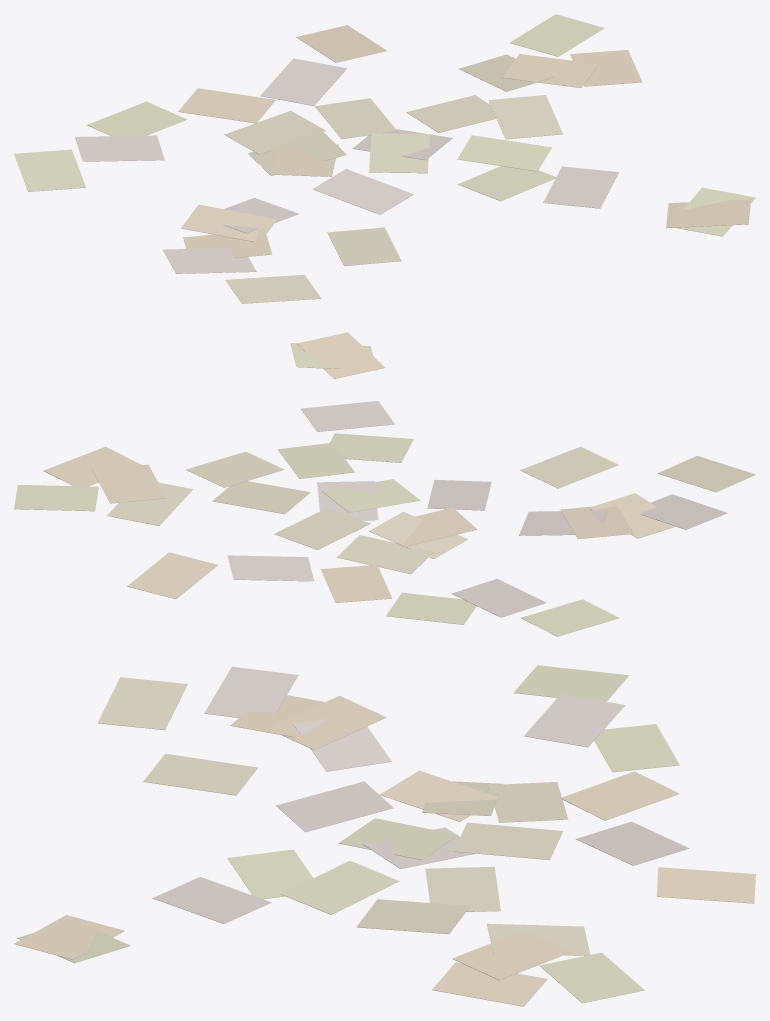
The model's file is prop_scattered_papers.fbx.
3 renders of one model, top to bottom at view 1: azimuth 30°, elevation 25°; view 2: azimuth 150°, elevation 25°; view 3: azimuth 270°, elevation 25°, orthographic. The views are drawn at different scales.
Parts seen in each view (by area): view 1: Pp11, Pp20, Pp2, Pp3, Pp15, Pp26, Pp14, Pp8, Pp13, Pp27, Pp17, Pp22 (+18 smaller); view 2: Pp1, Pp25, Pp4, Pp8, Pp24, Pp22, Pp13, Pp17, Pp11, Pp15, Pp10, Pp16 (+18 smaller); view 3: Pp28, Pp27, Pp14, Pp23, Pp3, Pp4, Pp22, Pp24, Pp1, Pp13, Pp17, Pp10 (+18 smaller).
Boxes of the visible parts, bbox=[...] form: Pp11: bbox=[260, 58, 346, 105]; Pp20: bbox=[488, 95, 562, 139]; Pp2: bbox=[14, 149, 85, 191]; Pp3: bbox=[313, 169, 413, 214]; Pp15: bbox=[543, 166, 618, 208]; Pp26: bbox=[369, 133, 429, 173]; Pp14: bbox=[457, 135, 551, 171]; Pp8: bbox=[224, 111, 325, 154]; Pp13: bbox=[178, 88, 275, 123]; Pp27: bbox=[75, 135, 164, 161]; Pp17: bbox=[502, 54, 598, 87]; Pp22: bbox=[510, 14, 604, 56]; Pp1: bbox=[127, 552, 217, 598]; Pp25: bbox=[297, 332, 385, 378]; Pp4: bbox=[520, 446, 618, 488]; Pp8: bbox=[337, 535, 433, 573]; Pp24: bbox=[274, 507, 370, 549]; Pp22: bbox=[14, 485, 98, 511]; Pp13: bbox=[321, 564, 392, 602]; Pp17: bbox=[92, 464, 166, 503]; Pp11: bbox=[227, 555, 314, 581]; Pp15: bbox=[301, 401, 394, 431]; Pp10: bbox=[386, 592, 476, 624]; Pp16: bbox=[212, 481, 310, 514]; Pp28: bbox=[98, 677, 187, 729]; Pp27: bbox=[524, 694, 624, 747]; Pp14: bbox=[281, 860, 399, 914]; Pp23: bbox=[204, 666, 298, 717]; Pp3: bbox=[276, 781, 393, 832]; Pp4: bbox=[143, 753, 257, 795]; Pp22: bbox=[539, 952, 644, 1003]; Pp24: bbox=[454, 822, 562, 859]; Pp1: bbox=[656, 867, 755, 903]; Pp13: bbox=[560, 771, 679, 820]; Pp17: bbox=[452, 930, 570, 980]; Pp10: bbox=[594, 724, 679, 772].
Bounding box in the file's own units: 123 × 1.92 × 112.
